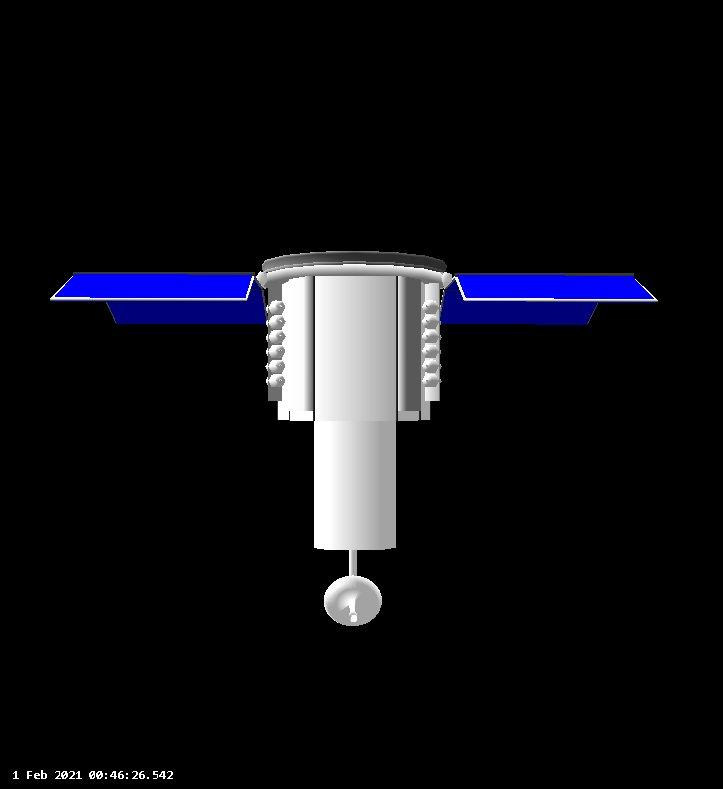antenna: (322, 573, 386, 633)
body: (254, 245, 458, 557)
solar: (428, 265, 667, 329), (45, 269, 272, 335)
